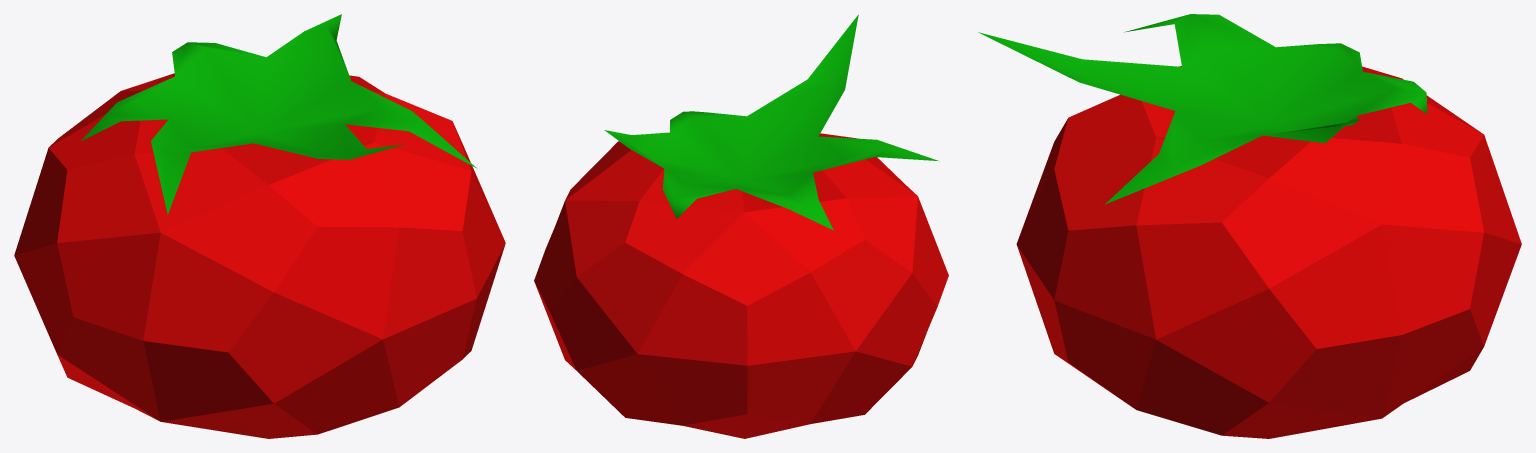
The model's file is Tomato.fbx.
3 views of the same model, side by side, from view 1: azimuth 30°, elevation 25°; view 2: azimuth 150°, elevation 25°; view 3: azimuth 270°, elevation 25° (orthographic). The views are drawn at different scales.
Parts seen in each view (by area): view 1: pPlatonic1, pCylinder1; view 2: pPlatonic1, pCylinder1; view 3: pPlatonic1, pCylinder1.
Boxes of the visible parts, <box> form: pPlatonic1: <box>14,73,505,438</box>; pCylinder1: <box>80,14,477,214</box>; pPlatonic1: <box>534,133,948,438</box>; pCylinder1: <box>604,14,939,230</box>; pPlatonic1: <box>1016,66,1521,438</box>; pCylinder1: <box>978,14,1427,204</box>.
Size of the model in its own units: 1.96 by 1.54 by 2.16.
